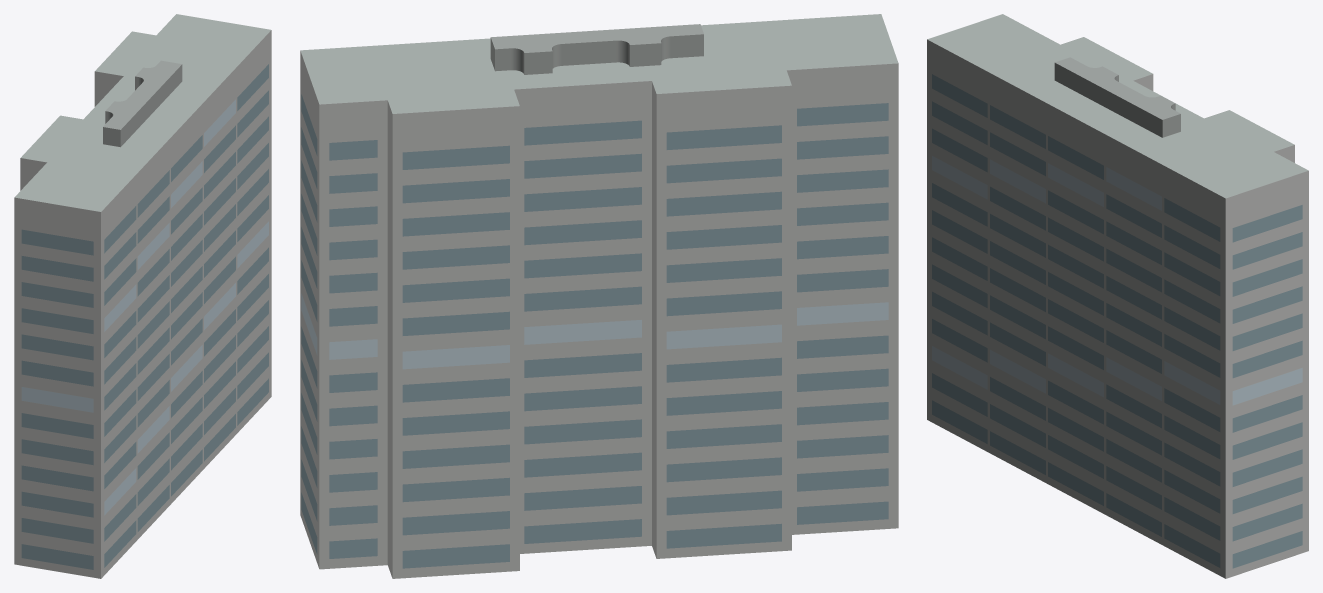
Rendered from fallback-gaepo-raemian-forest-101.glb.
The picture shows the model from 3 angles, left to right: view 1: azimuth 30°, elevation 25°; view 2: azimuth 150°, elevation 25°; view 3: azimuth 270°, elevation 25°; orthographic projection. The views are drawn at different scales.
Parts seen in each view (by area): view 1: fallback-gaepo-raemian-forest-101; view 2: fallback-gaepo-raemian-forest-101; view 3: fallback-gaepo-raemian-forest-101.
Boxes of the visible parts, x1=… form: fallback-gaepo-raemian-forest-101: x1=14, y1=14, x2=271, y2=578; fallback-gaepo-raemian-forest-101: x1=300, y1=14, x2=898, y2=578; fallback-gaepo-raemian-forest-101: x1=927, y1=14, x2=1308, y2=578.
Bounding box in the file's own units: 43.71 × 44 × 38.23.
